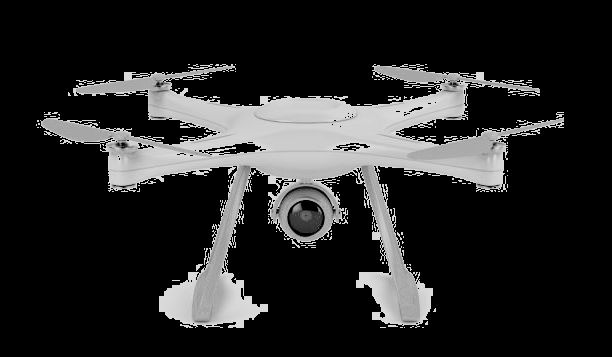Drone: (28, 50, 566, 336)
